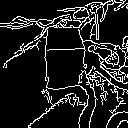cube: (36, 23, 93, 88)
